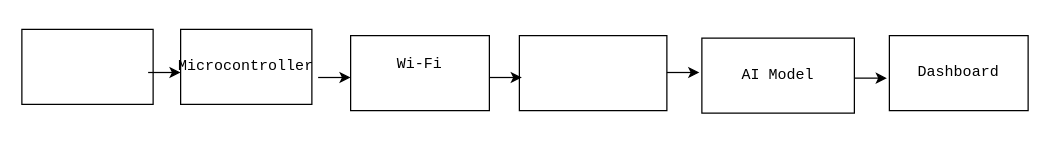
The diagram is 1050 pixels wide and 145 high, and some of its shapes have lost their labels. The shapes that lost their labels are listed below. From the top down, each one's box as (x1, y1, x2, y2) in pixels, then its label:
(21, 28, 153, 104): Sensors
(518, 34, 667, 111): Cloud DB
